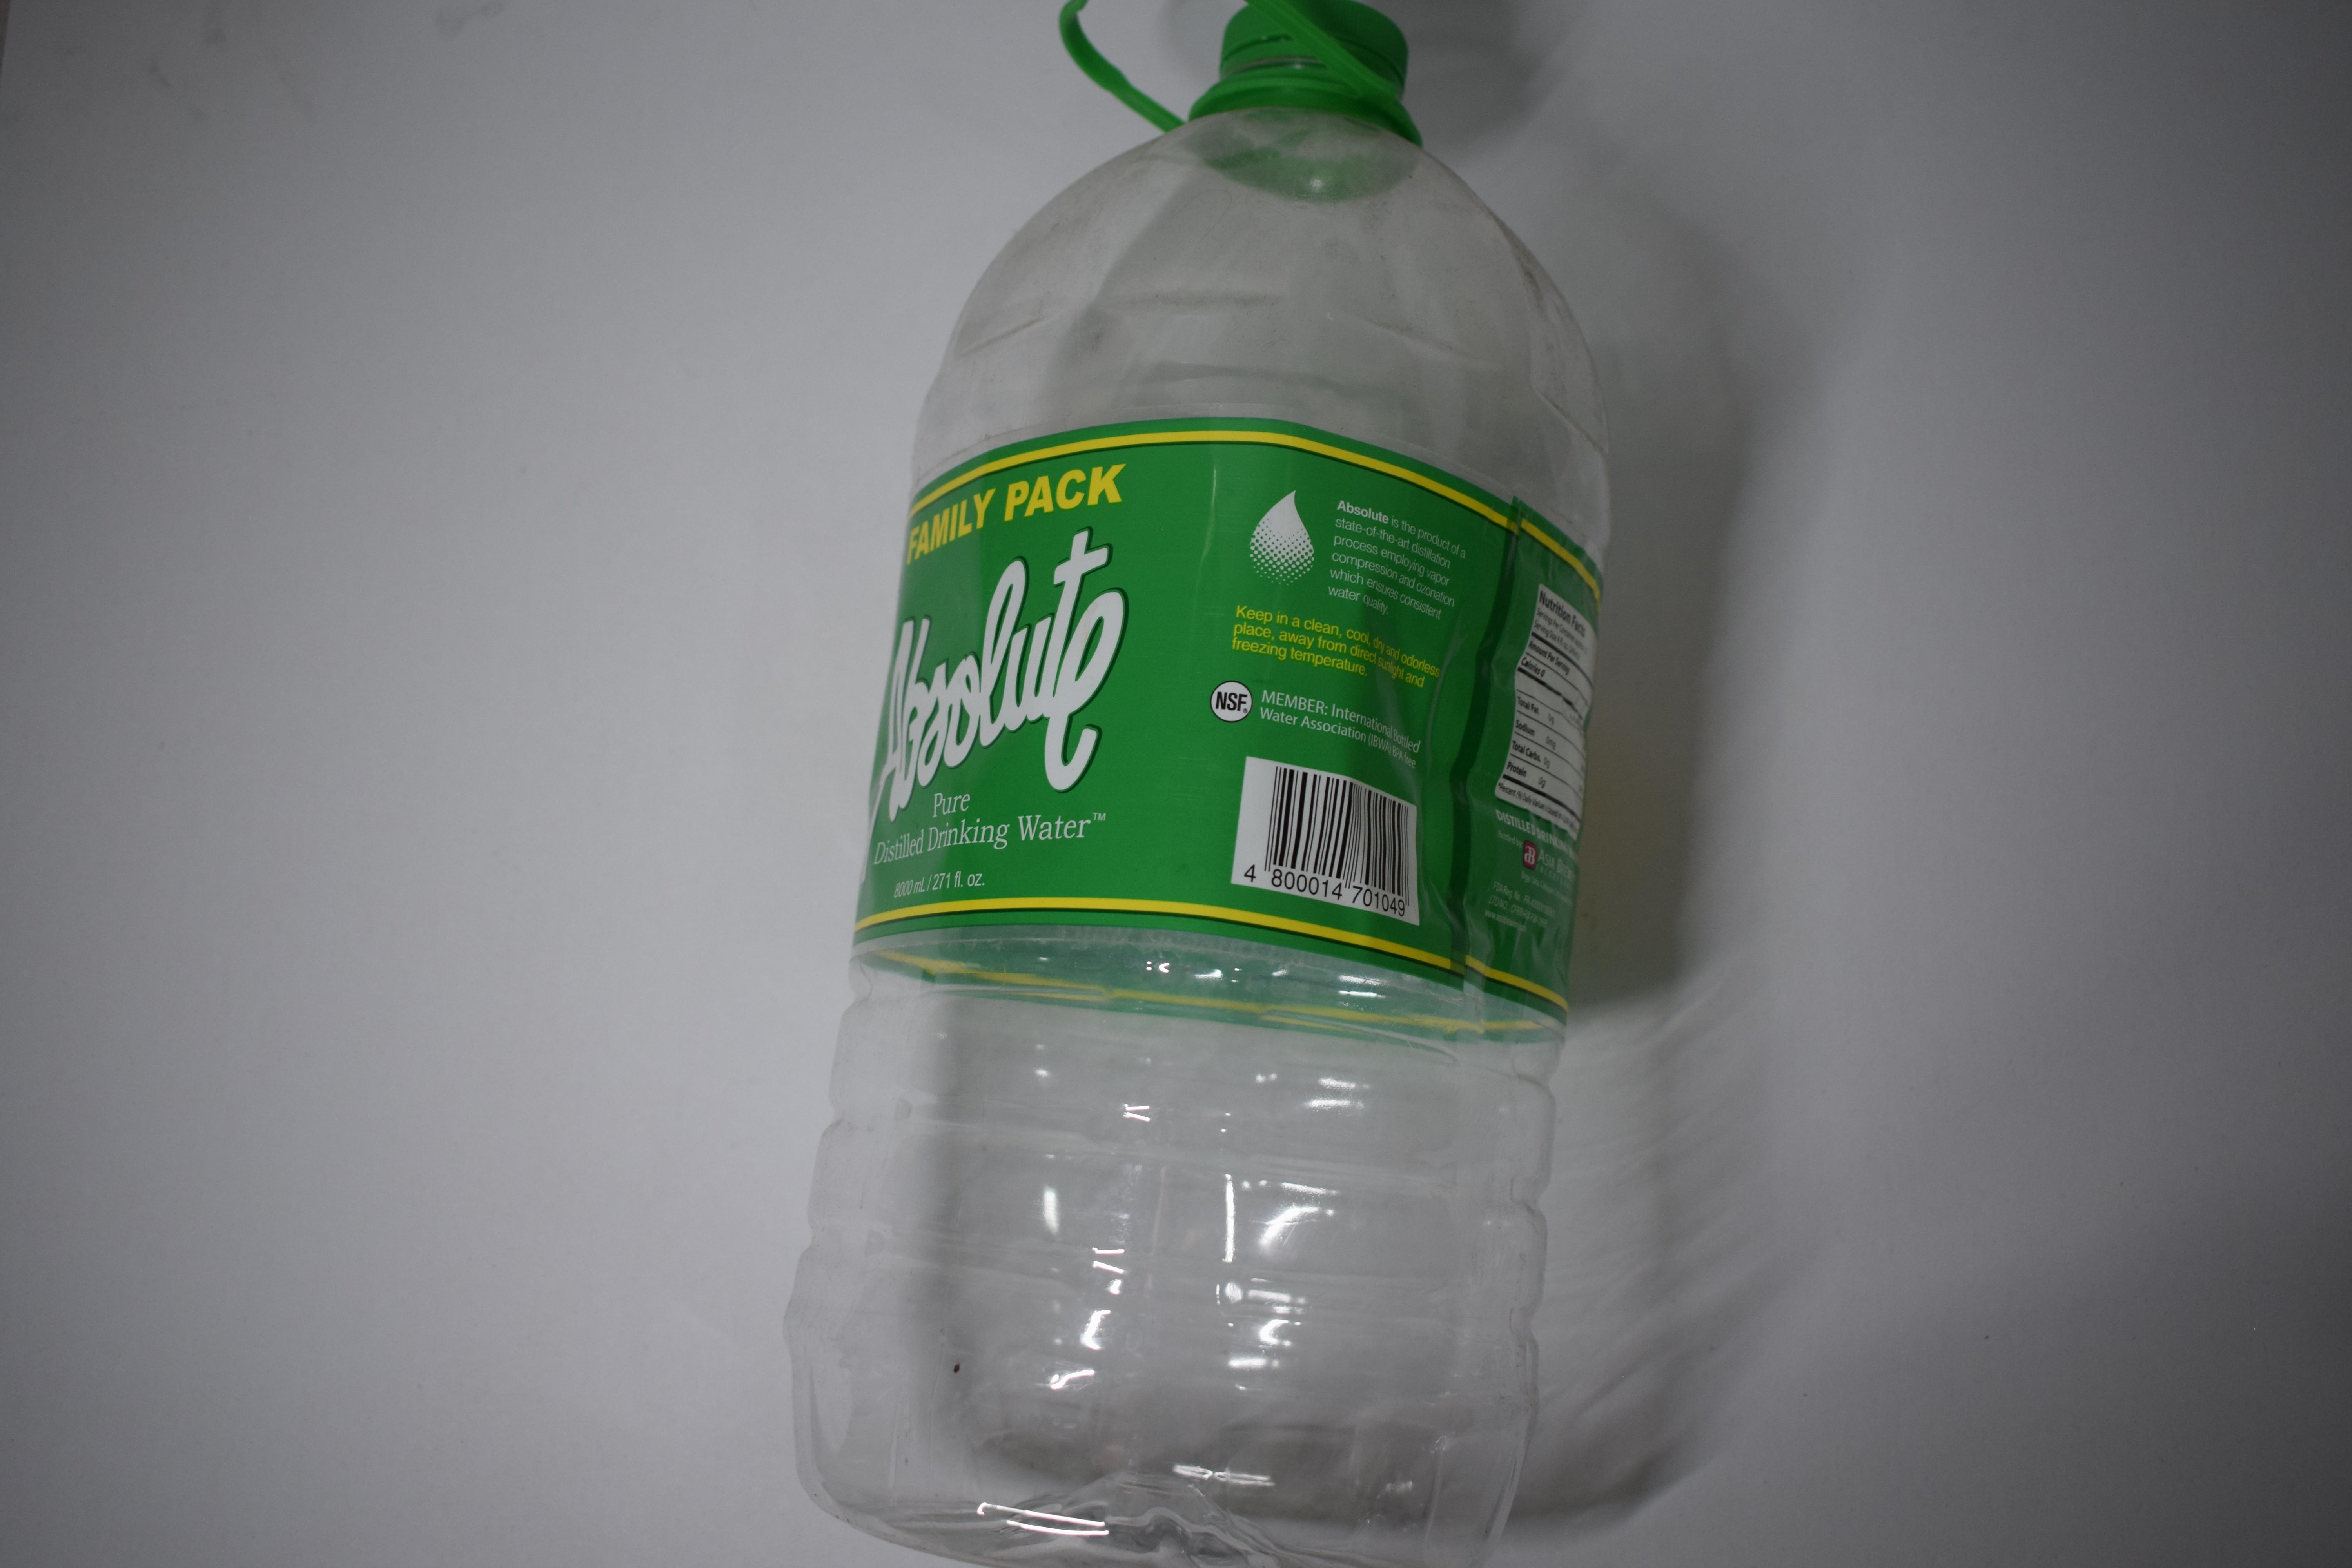bottle: (0, 0, 385, 1563)
